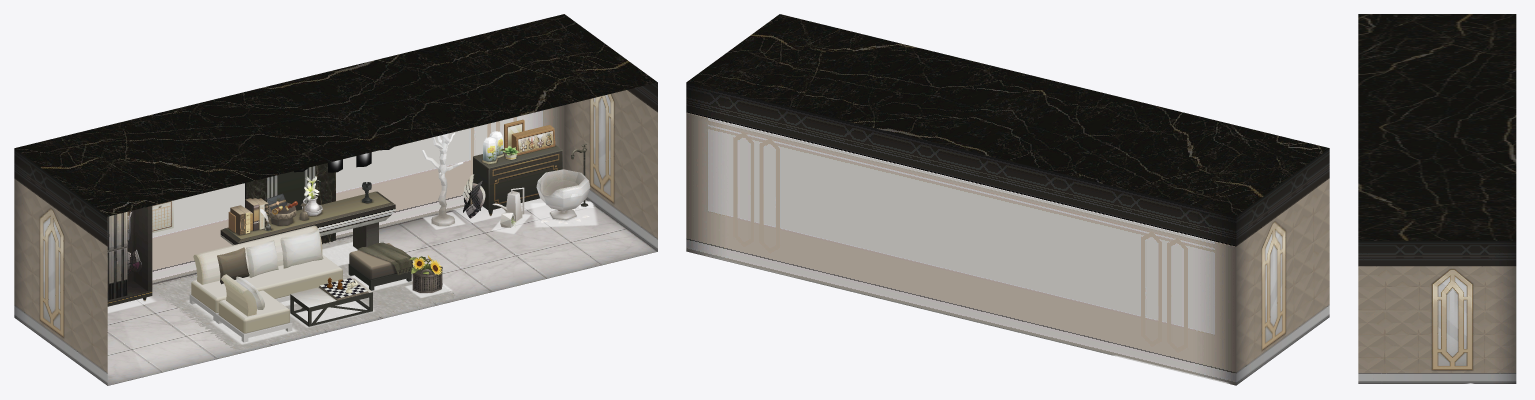
Rendered from fNearl.glb.
The picture shows the model from 3 angles, left to right: view 1: azimuth 30°, elevation 25°; view 2: azimuth 150°, elevation 25°; view 3: azimuth 270°, elevation 25°; orthographic projection. The views are drawn at different scales.
Visible parts, largest first — view 1: ROOM_room, ROOM_floor, furni_fNearl_carpet_01, furni_fNearl_cabinet_L_01, furni_fNearl_sofa_M_01, furni_fNearl_cabinet_H_01, furni_fNearl_shelf_01, furni_fNearl_sofa_S_01, furni_fNearl_sofa_M_02, furni_fNearl_wallDecor_01, furni_fNearl_shelf_02, furni_fNearl_sink_01 (+13 smaller); view 2: ROOM_room, ROOM_LDoor; view 3: ROOM_room, ROOM_RDoor.
Boxes of the visible parts, x1=… form: ROOM_room: x1=14, y1=14, x2=657, y2=385; ROOM_floor: x1=107, y1=198, x2=657, y2=385; furni_fNearl_carpet_01: x1=152, y1=236, x2=457, y2=350; furni_fNearl_cabinet_L_01: x1=462, y1=119, x2=562, y2=218; furni_fNearl_sofa_M_01: x1=189, y1=225, x2=342, y2=321; furni_fNearl_cabinet_H_01: x1=107, y1=206, x2=152, y2=306; furni_fNearl_shelf_01: x1=220, y1=191, x2=395, y2=249; furni_fNearl_sofa_S_01: x1=216, y1=274, x2=292, y2=342; furni_fNearl_sofa_M_02: x1=217, y1=229, x2=323, y2=284; furni_fNearl_wallDecor_01: x1=245, y1=163, x2=335, y2=243; furni_fNearl_shelf_02: x1=228, y1=182, x2=371, y2=234; furni_fNearl_sink_01: x1=536, y1=169, x2=590, y2=220; ROOM_room: x1=686, y1=14, x2=1329, y2=385; ROOM_LDoor: x1=1296, y1=250, x2=1315, y2=340; ROOM_room: x1=1358, y1=14, x2=1516, y2=383; ROOM_RDoor: x1=1381, y1=318, x2=1413, y2=383.
Size of the model in its own units: 7.57 by 2.2 by 2.26.
Materials: 6 (6 with a texture image).
